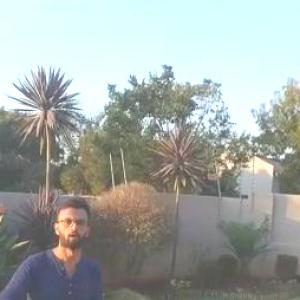follow: (0, 192, 112, 299)
